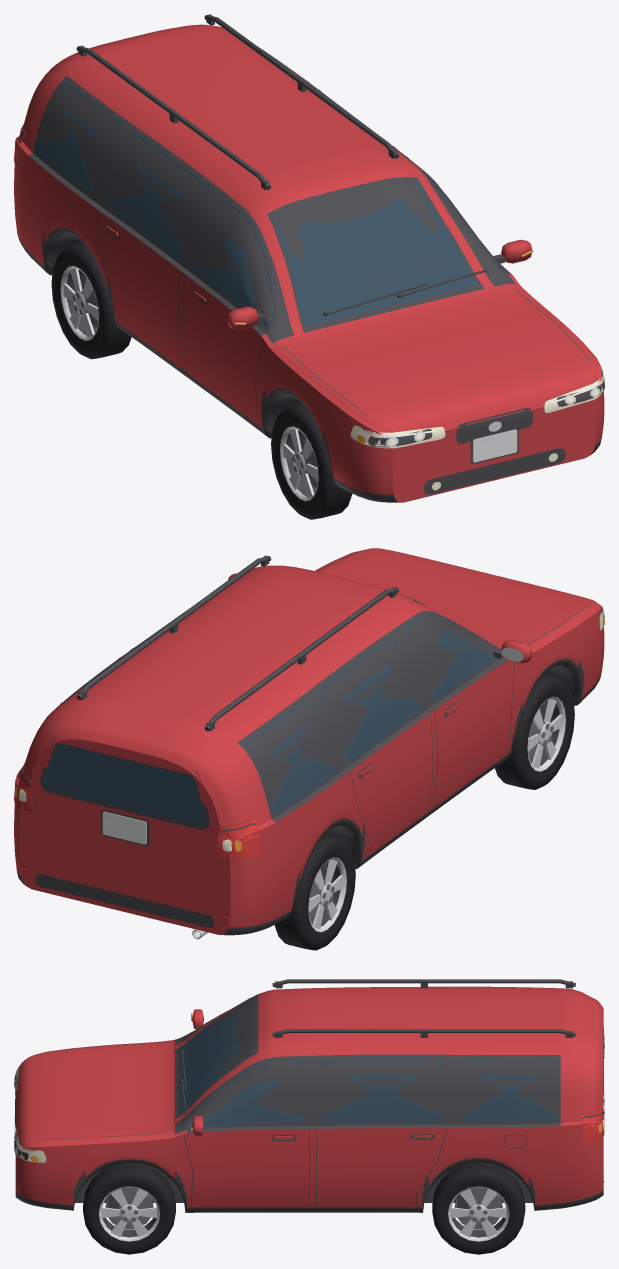
Rendered from 1_close.fbx.
3 views of the same model, one above another, from view 1: azimuth 30°, elevation 25°; view 2: azimuth 150°, elevation 25°; view 3: azimuth 270°, elevation 25° (orthographic). The views are drawn at different scales.
Parts seen in each view (by area): view 1: 10_1_close; view 2: 10_1_close; view 3: 10_1_close.
Boxes of the visible parts, bbox=[...] form: 10_1_close: bbox=[14, 14, 604, 519]; 10_1_close: bbox=[14, 548, 604, 950]; 10_1_close: bbox=[14, 979, 604, 1254].
Bounding box in the file's own units: 2.26 × 1.83 × 4.82.
